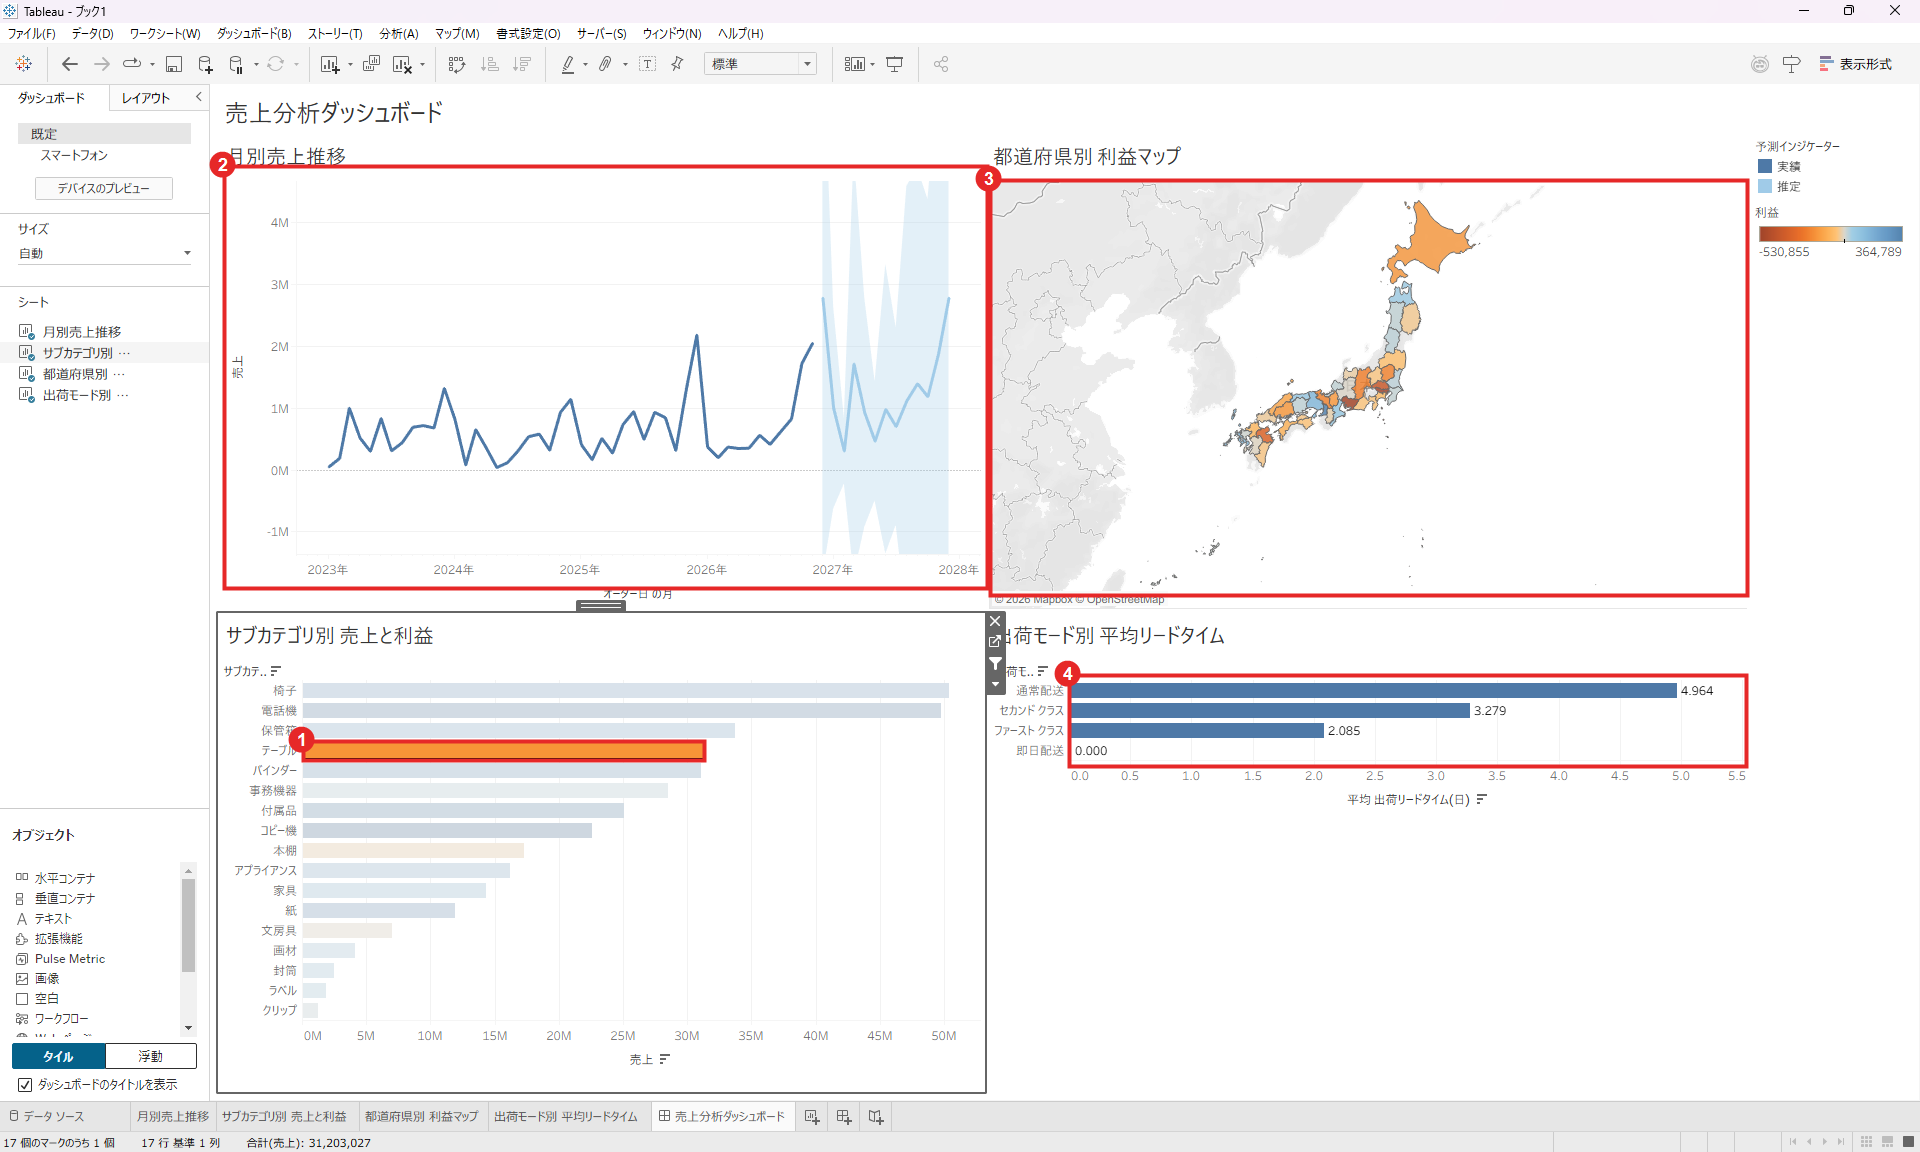

What the dashboard file says about the page in this screenshot:
{"tool":"tableau","page":{"name":"売上分析ダッシュボード","canvas":[1000,1000],"units":"permille","ordinal":0},"visuals":[{"type":"title","box":[4.7,7.9,990.6,41.3]},{"type":"worksheet","title":"月別売上推移","mark":"Automatic","rows":["売上"],"cols":["オーダー日"],"box":[4.7,49.2,448.5,471.5]},{"type":"worksheet","title":"都道府県別 利益マップ","mark":"Multipolygon","box":[453.2,49.2,448.5,471.5]},{"type":"legend","title":"月別売上推移","param":"[サンプル - スーパーストア].[none:Forecast Indicator:nk]","box":[901.7,49.2,93.6,65]},{"type":"legend","title":"都道府県別 利益マップ","param":"[サンプル - スーパーストア].[sum:利益:qk]","box":[901.7,114.2,93.6,64]},{"type":"worksheet","title":"サブカテゴリ別 売上と利益","mark":"Automatic","rows":["サブカテゴリ"],"cols":["売上"],"box":[4.7,520.7,448.5,471.5]},{"type":"worksheet","title":"出荷モード別 平均リードタイム","mark":"Automatic","rows":["出荷モード"],"cols":["Calculation_1357122600267776"],"box":[453.2,520.7,448.5,471.5]}]}

Visuals, with their boxes on the dashboard's canvas, which has no fixed pixel size, in thousandths of its width and height (x1, y1, x2, y2). These are canvas units, not pixel positions in the 1920x1152 screenshot, which may show the page scaled, cropped or inside an application window:
title: bbox=(5, 8, 995, 49)
"月別売上推移" worksheet: bbox=(5, 49, 453, 521)
"都道府県別 利益マップ" worksheet (Multipolygon marks): bbox=(453, 49, 902, 521)
"月別売上推移" legend: bbox=(902, 49, 995, 114)
"都道府県別 利益マップ" legend: bbox=(902, 114, 995, 178)
"サブカテゴリ別 売上と利益" worksheet: bbox=(5, 521, 453, 992)
"出荷モード別 平均リードタイム" worksheet: bbox=(453, 521, 902, 992)
